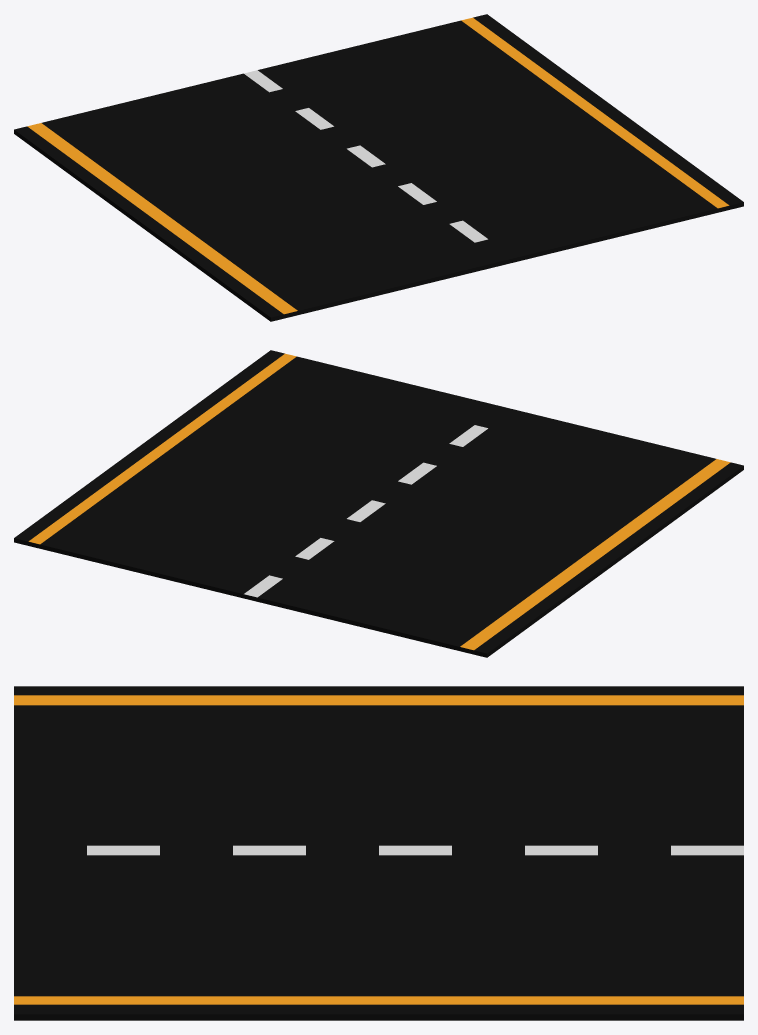
File: road.fbx
The picture shows the model from 3 angles, top to bottom: view 1: azimuth 30°, elevation 25°; view 2: azimuth 150°, elevation 25°; view 3: azimuth 270°, elevation 25°; orthographic projection. The views are drawn at different scales.
Visible parts, largest first — view 1: Cube; view 2: Cube; view 3: Cube.
Boxes of the visible parts, box(x1,y1,x2,y2) form: Cube: box(14, 14, 743, 321); Cube: box(14, 350, 743, 657); Cube: box(14, 686, 743, 1020).
Size of the model in its own units: 92.87 by 0.8078 by 87.32.
